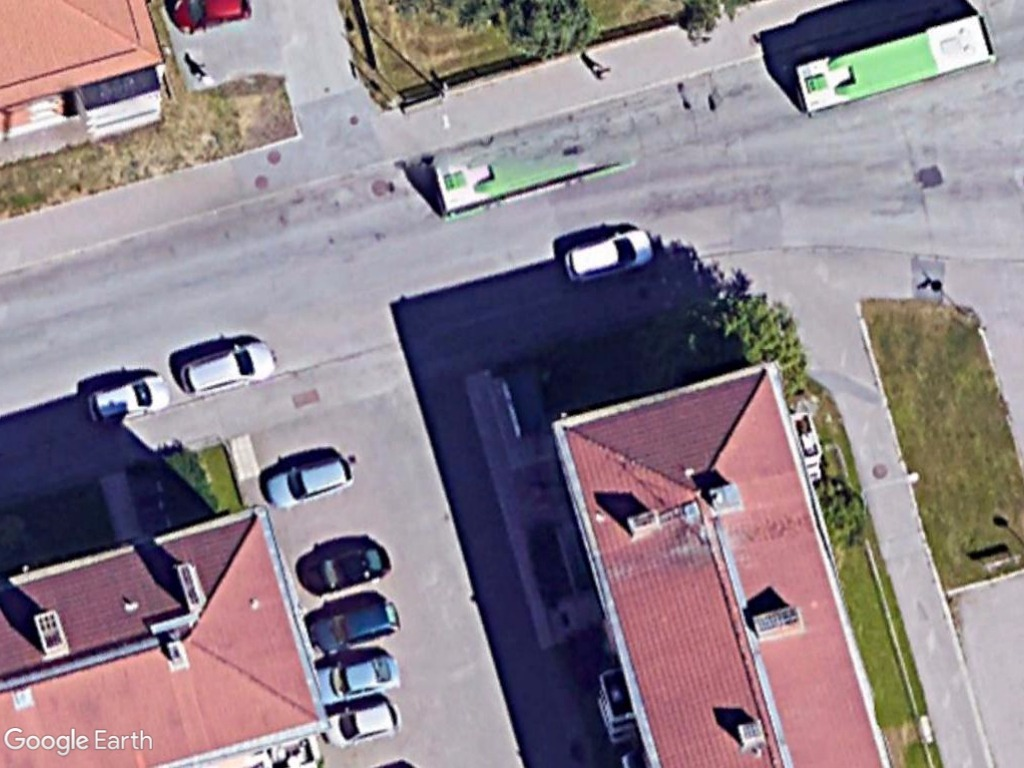bus: (788, 11, 1008, 120)
car: (176, 333, 282, 399), (309, 593, 408, 659), (556, 223, 655, 288), (262, 449, 357, 512), (298, 537, 395, 598), (80, 366, 173, 424), (314, 646, 407, 702), (316, 693, 405, 749)
